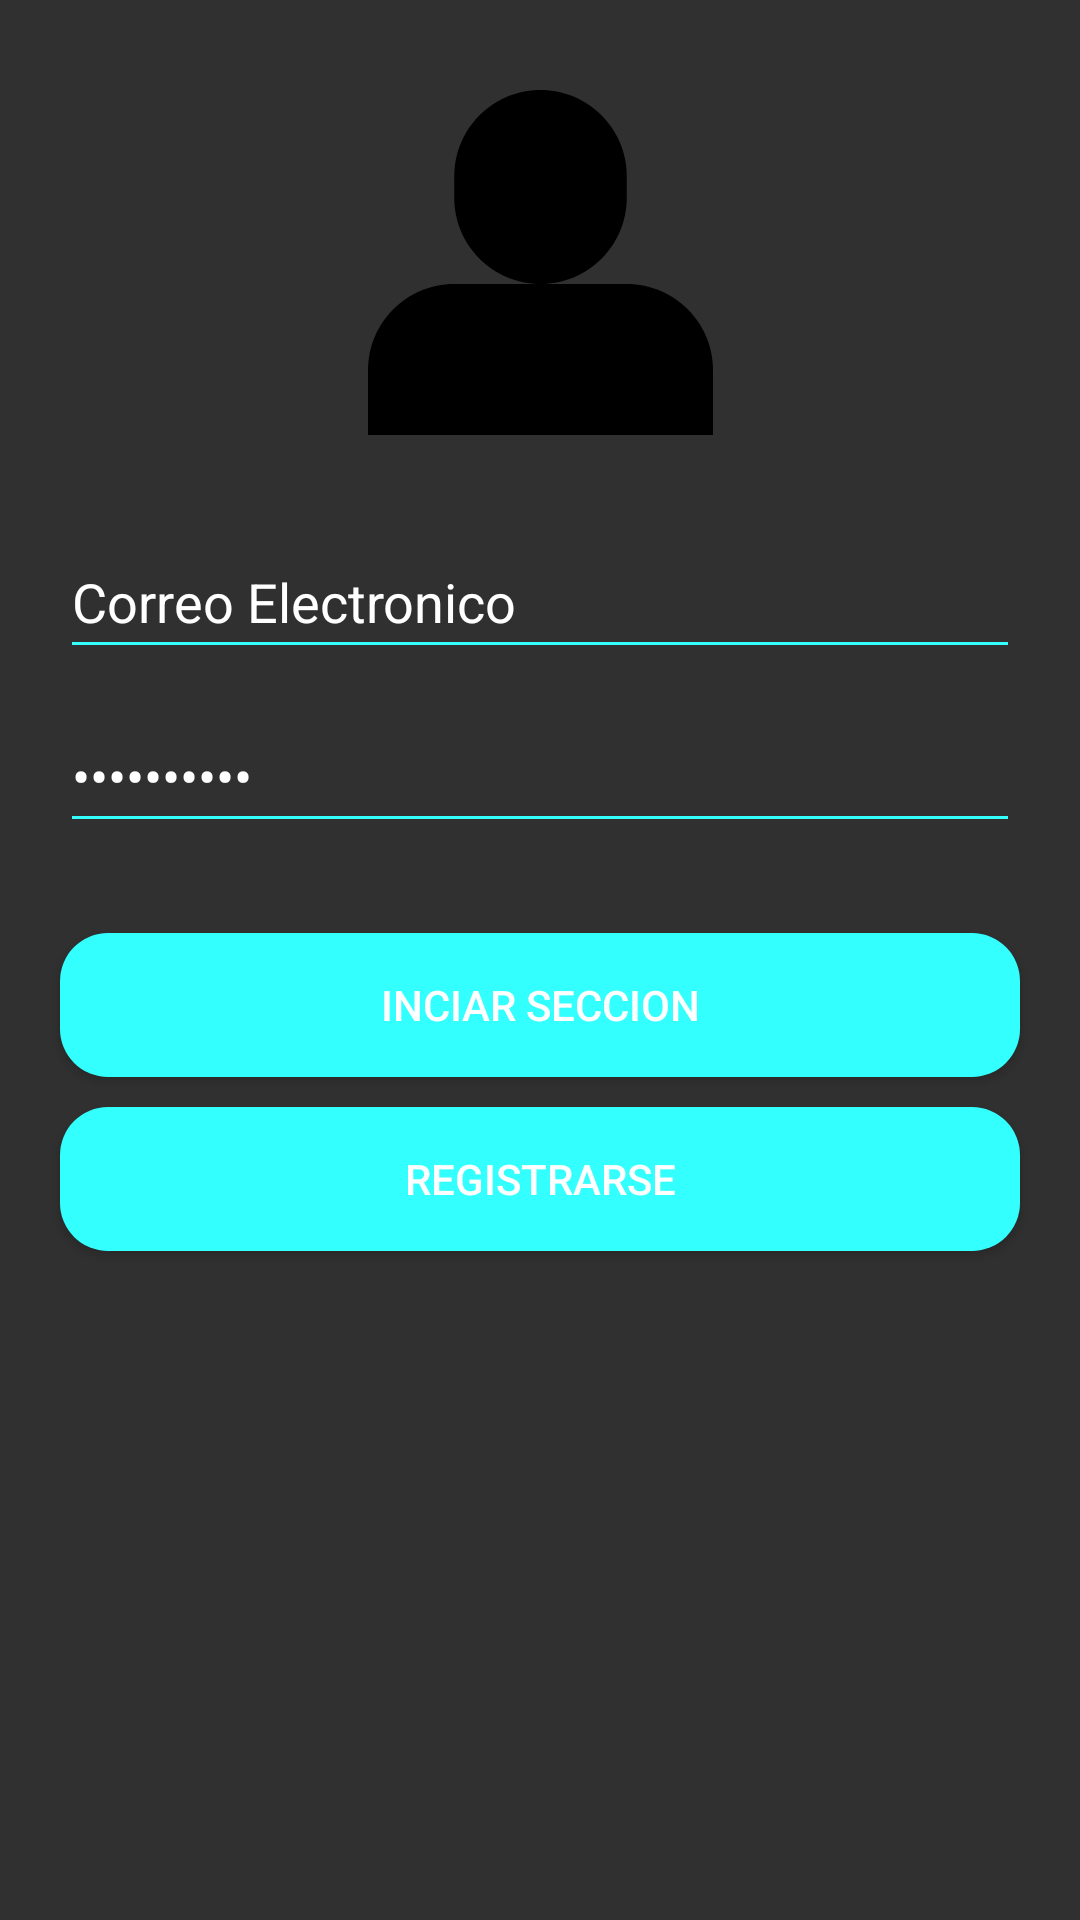

Point at icon controls on the screen. Image size 1080×1920, points as point (x, y).
user: point (540, 262)
